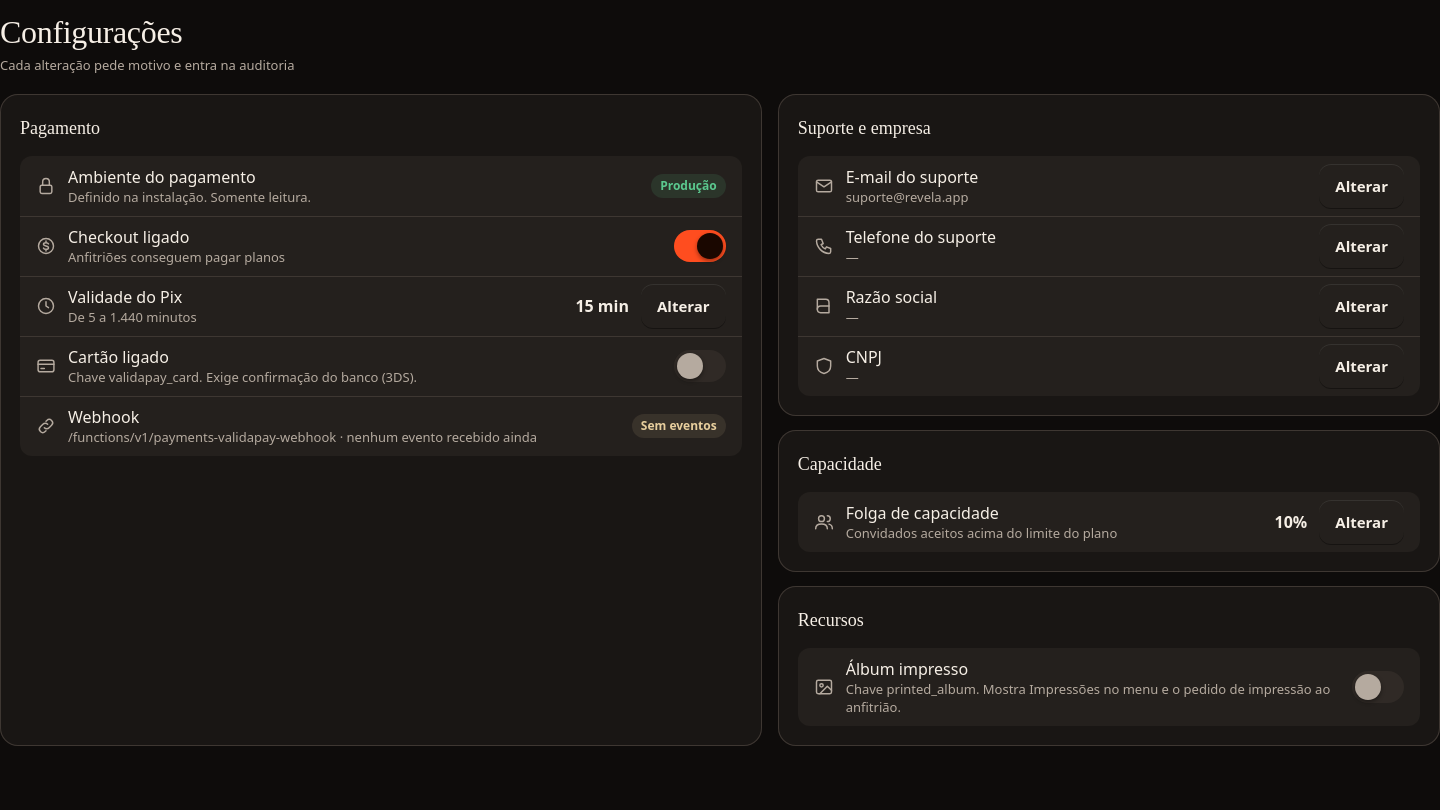
Scenario: M31 · configurações › erro do servidor aparece na folha e a folha continua aberta
Click the button with aria-label "Alterar e-mail do suporte" at (1362, 186), box [1319, 164, 1404, 208]
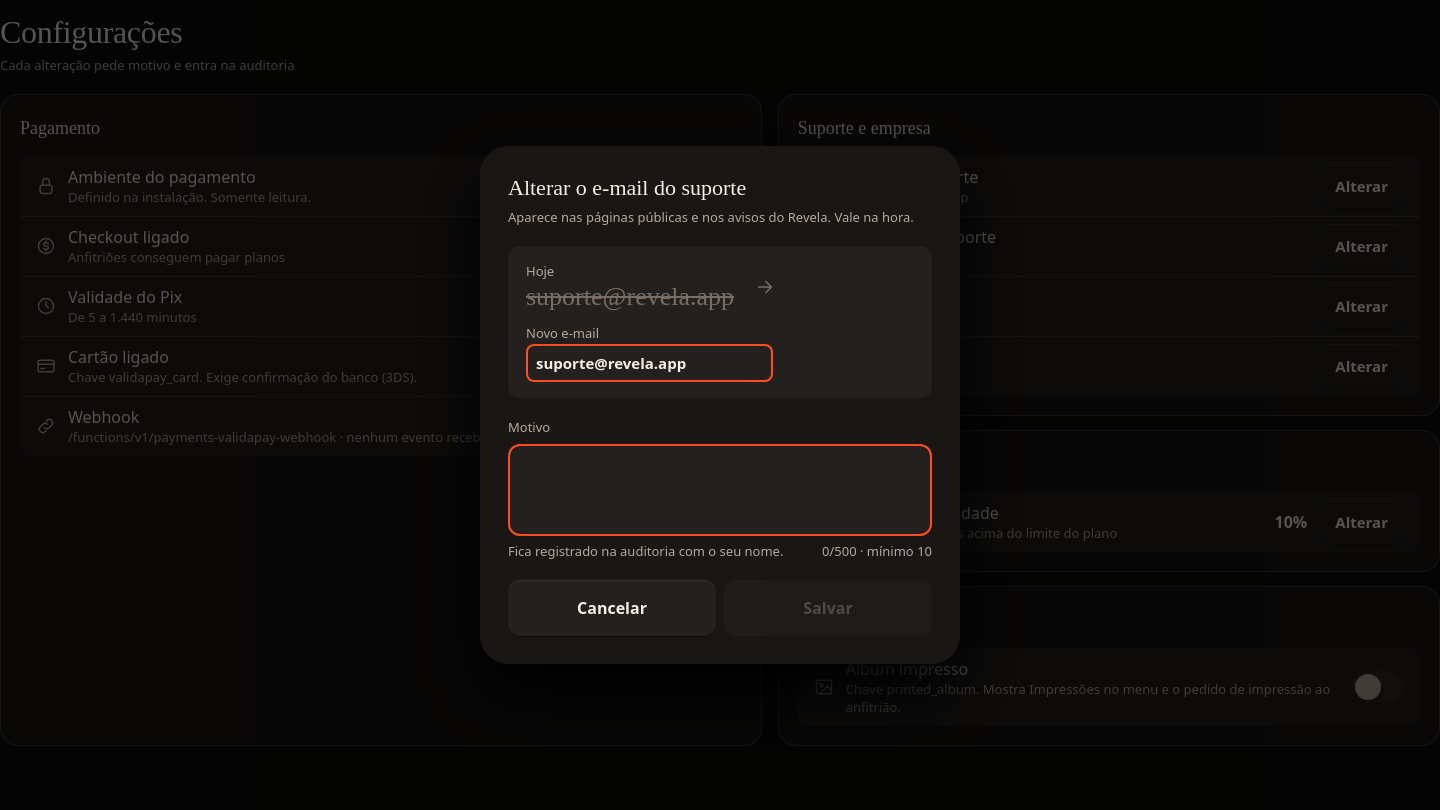
Type "E-mail oficial do suporte" into the text box named "Motivo" at (720, 497), box [524, 458, 916, 536]
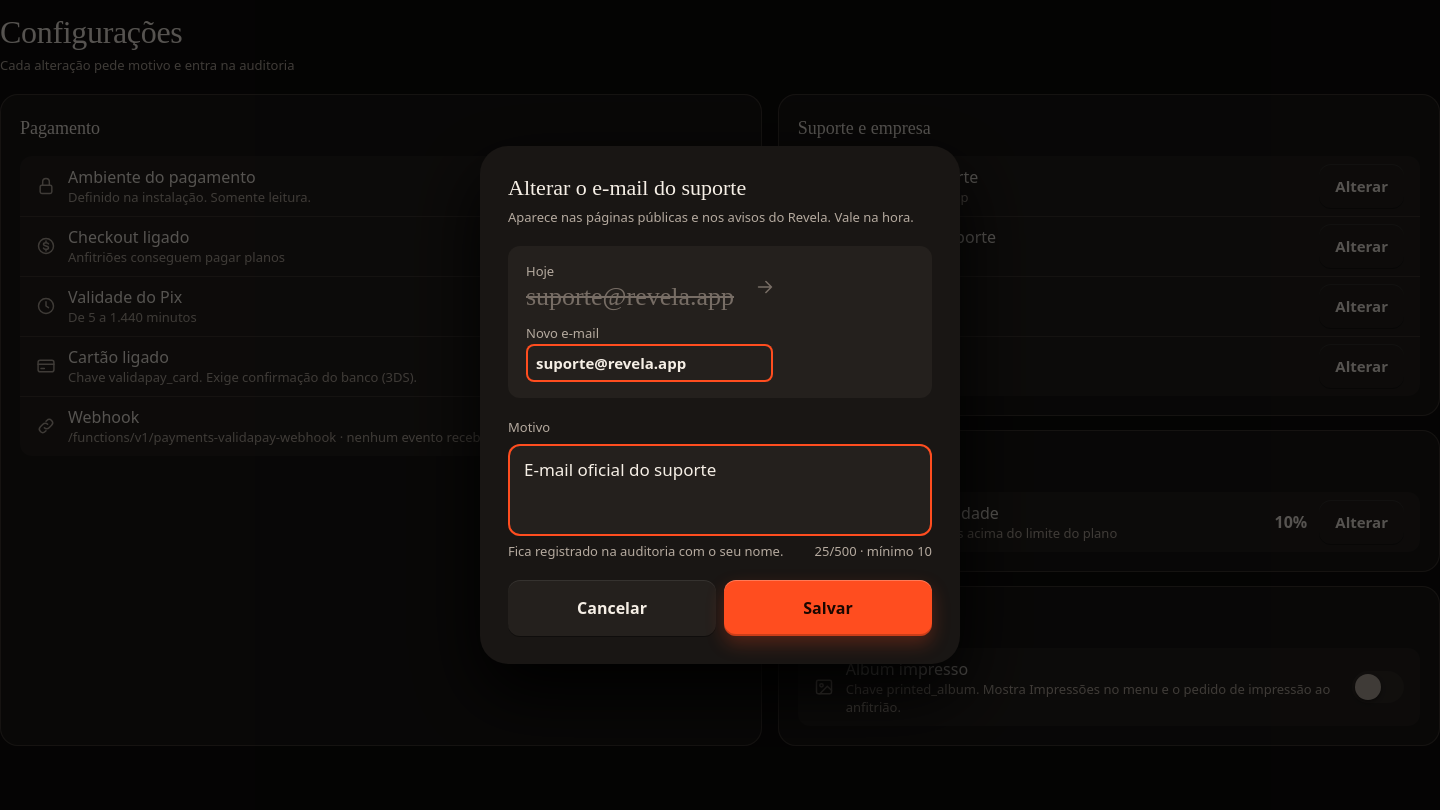
Click the button "Salvar" at (828, 608), box [724, 580, 932, 636]
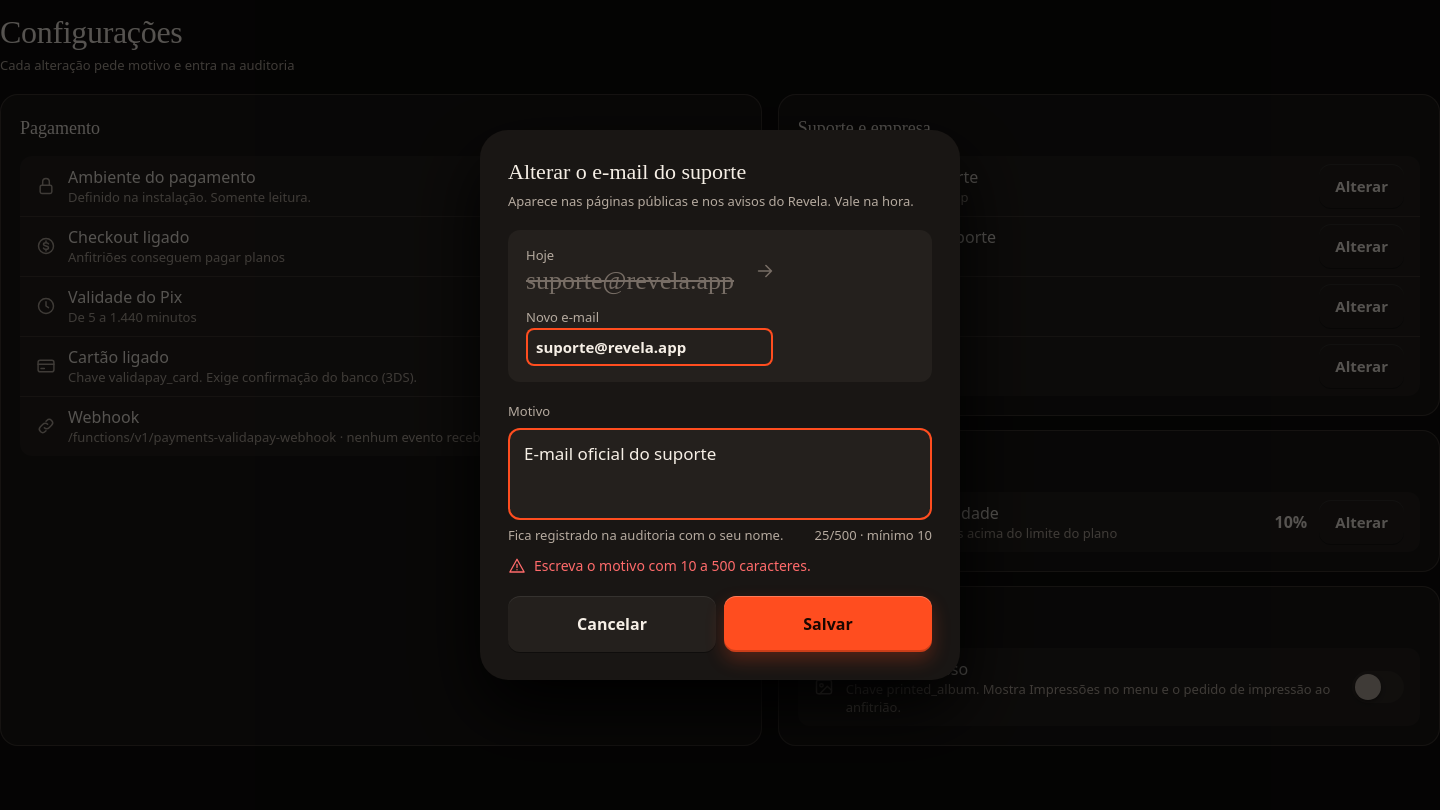
Now the message "Escreva o motivo com 10 a 500 caracteres." is shown, box [508, 556, 811, 575]
